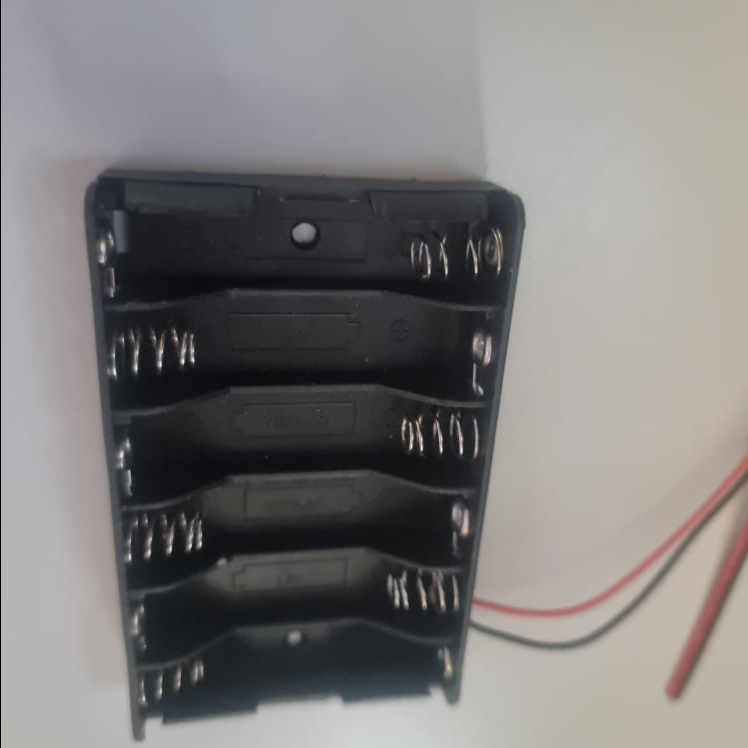BATTERY BOX: (83, 169, 534, 742)
